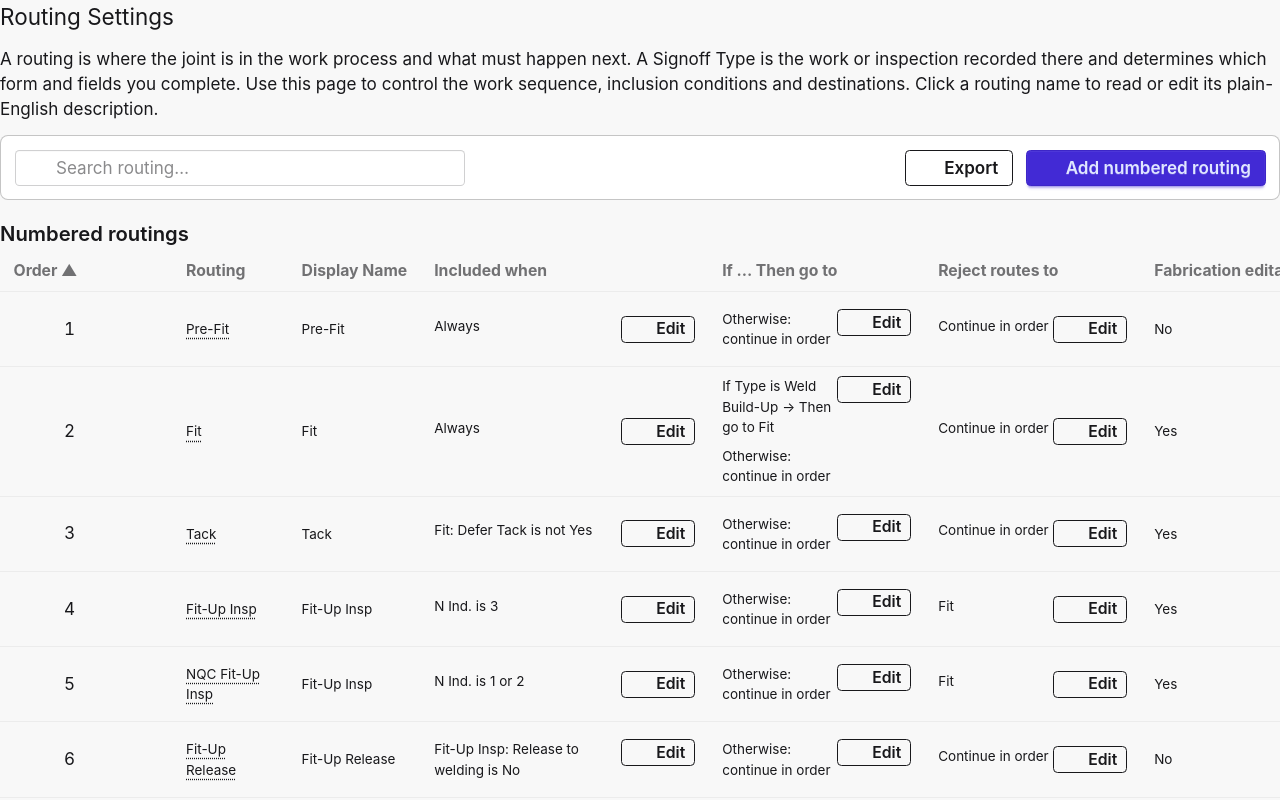
Test: Routing Settings rules editor › shows the seeded Pre-Fit description with older saved settings and preserves an explicitly cleared description
Click the button with aria-label "View or edit description for Pre-Fit". click: (208, 329)
box: top-left (186, 319), bottom-right (229, 339)
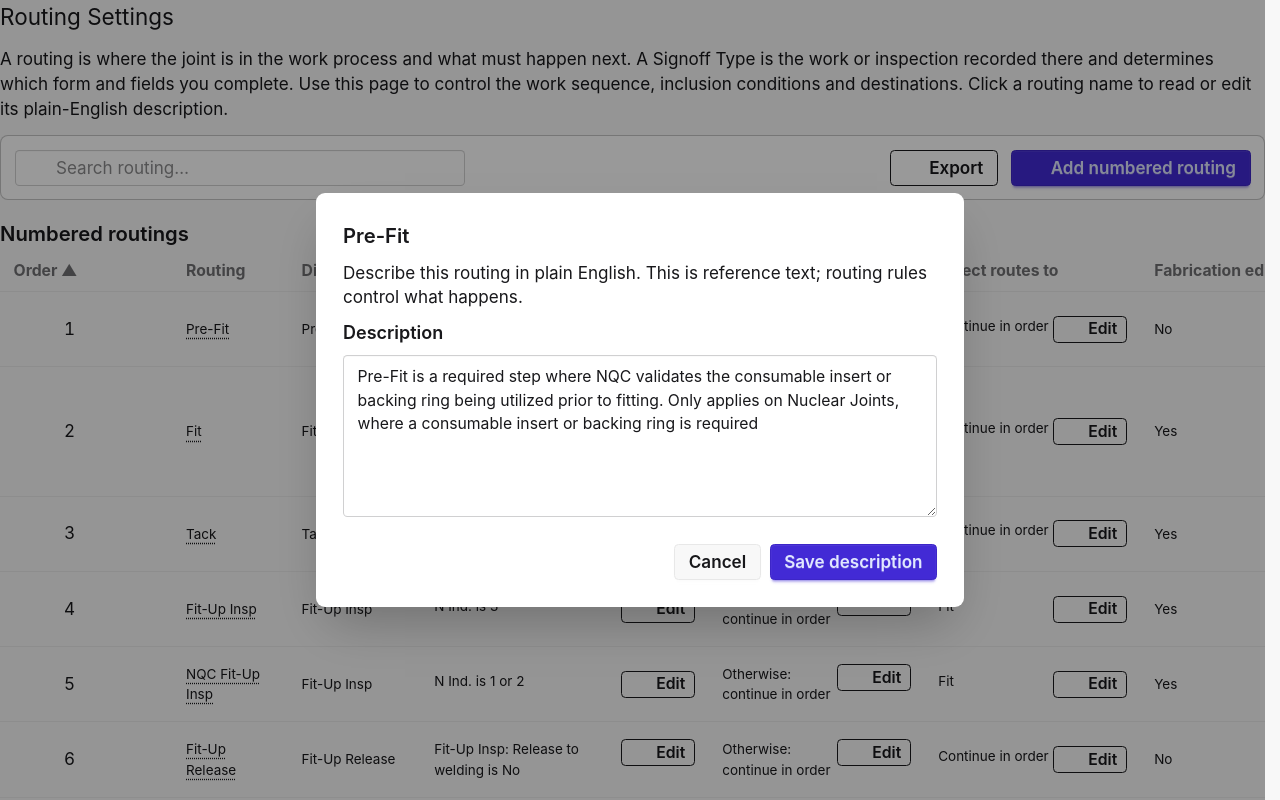
expect the text box labelled "Description" holds "Pre-Fit is a required step where NQC validates the consumable insert or backing ring being utilized prior to fitting. Only applies on Nuclear Joints, where a co": met, box top-left (343, 355), bottom-right (937, 517)
